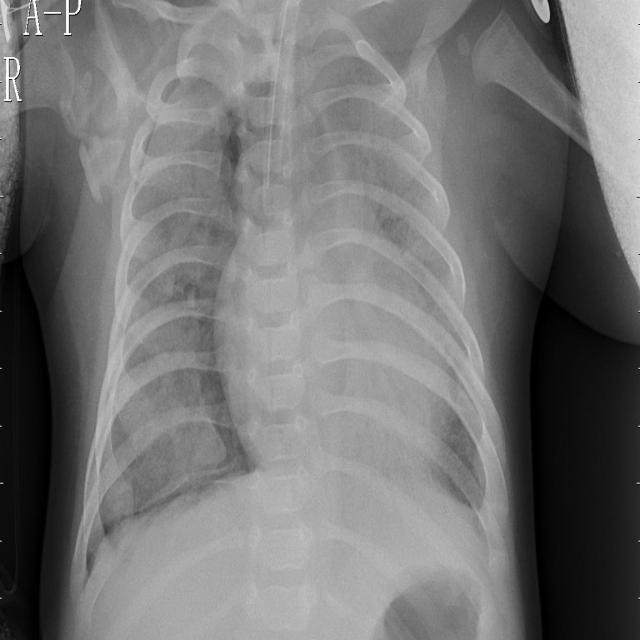low-pneumonia: (355, 70, 452, 295), (148, 89, 235, 288)
